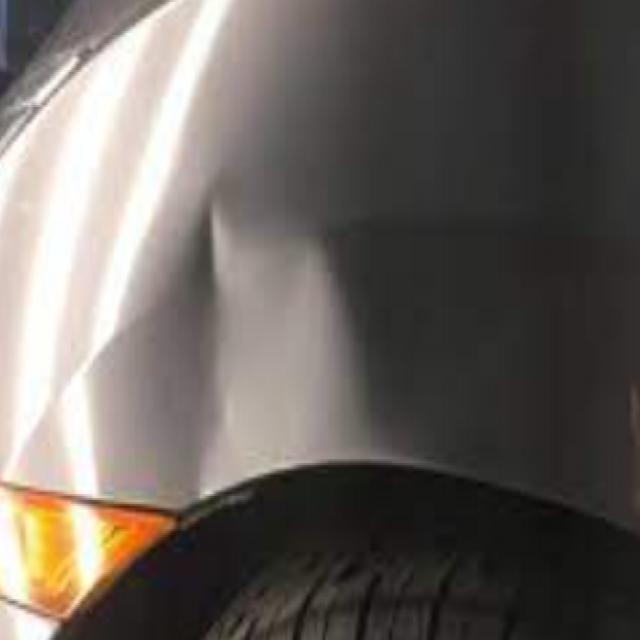dents: (143, 187, 365, 493)
